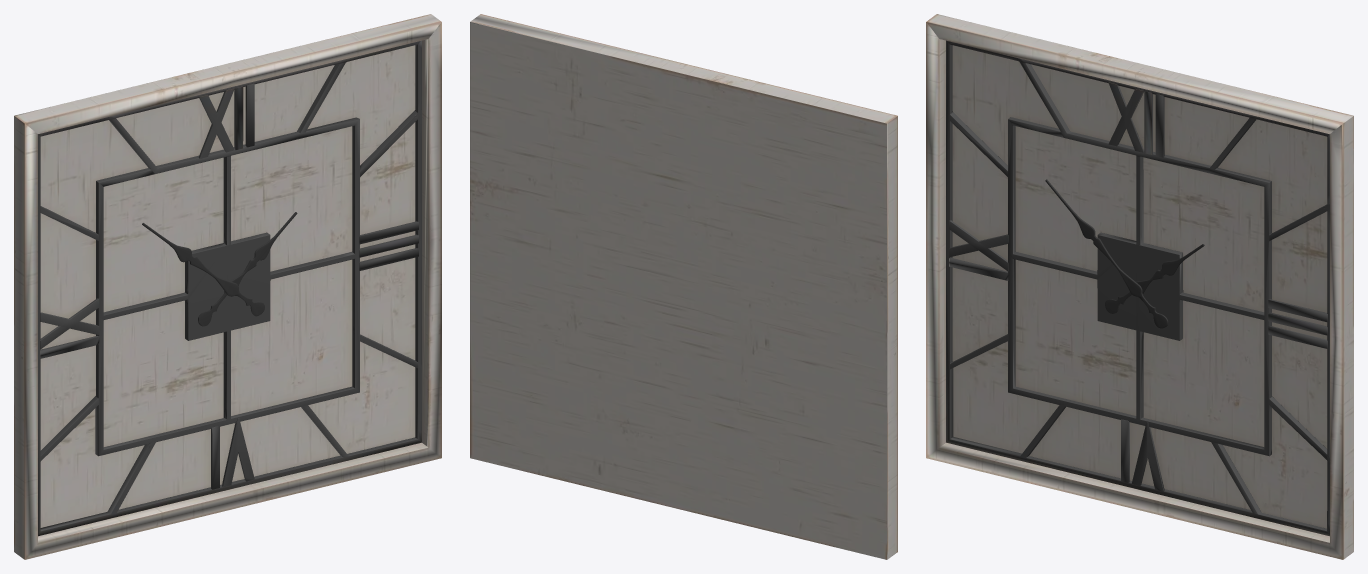
File: B07B8NSY3Z.glb
3 renders of one model, left to right at view 1: azimuth 30°, elevation 25°; view 2: azimuth 150°, elevation 25°; view 3: azimuth 330°, elevation 25°, orthographic.
Visible parts, largest first — view 1: RootNode; view 2: RootNode; view 3: RootNode.
Boxes of the visible parts, x1,y1,x2,y2 form: RootNode: (14,14,441,559); RootNode: (470,14,897,559); RootNode: (926,14,1353,559).
Bounding box in the file's own units: 0.7047 × 0.7047 × 0.0316.
Materials: 1 (1 with a texture image).
